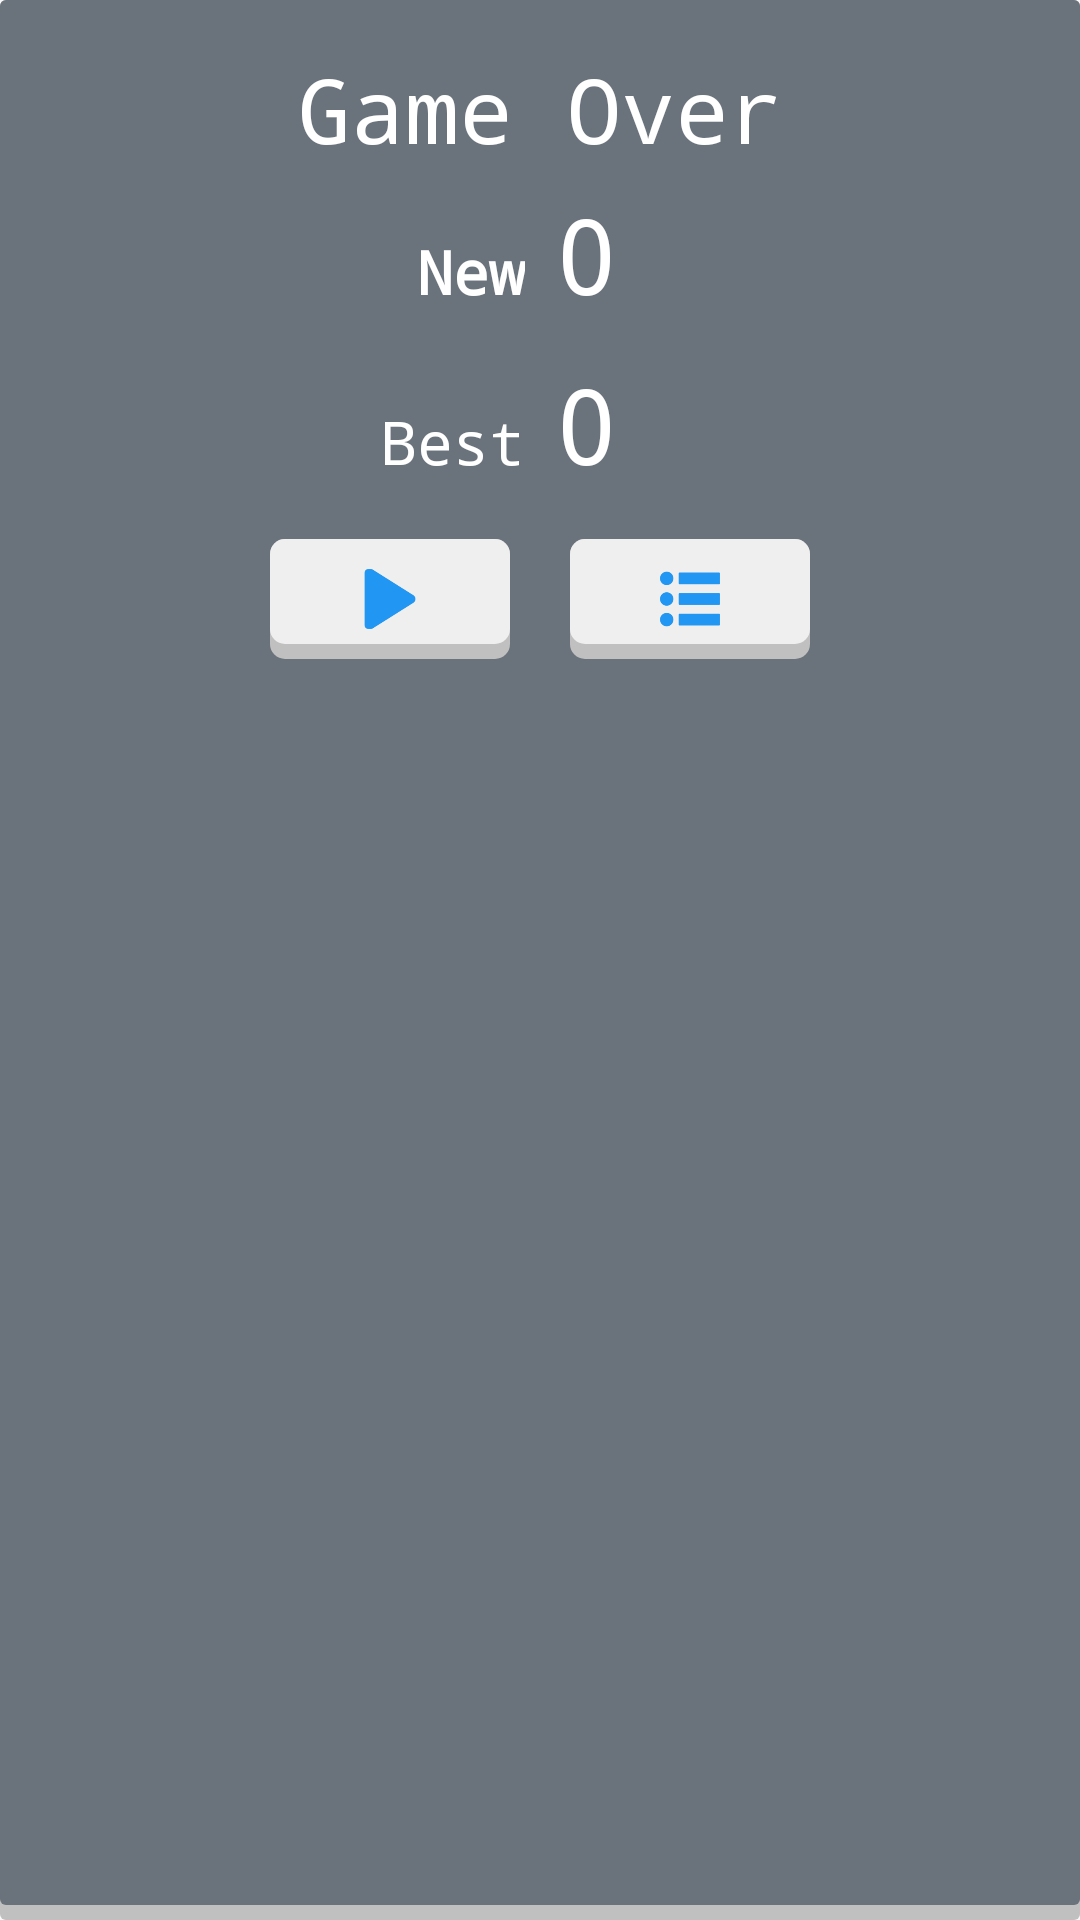

Icon bounding boxes for this 1080x1920 phone screenshot, format (x1, y1, x2, y2):
menu: (570, 539, 810, 659)
play: (270, 539, 510, 659)
